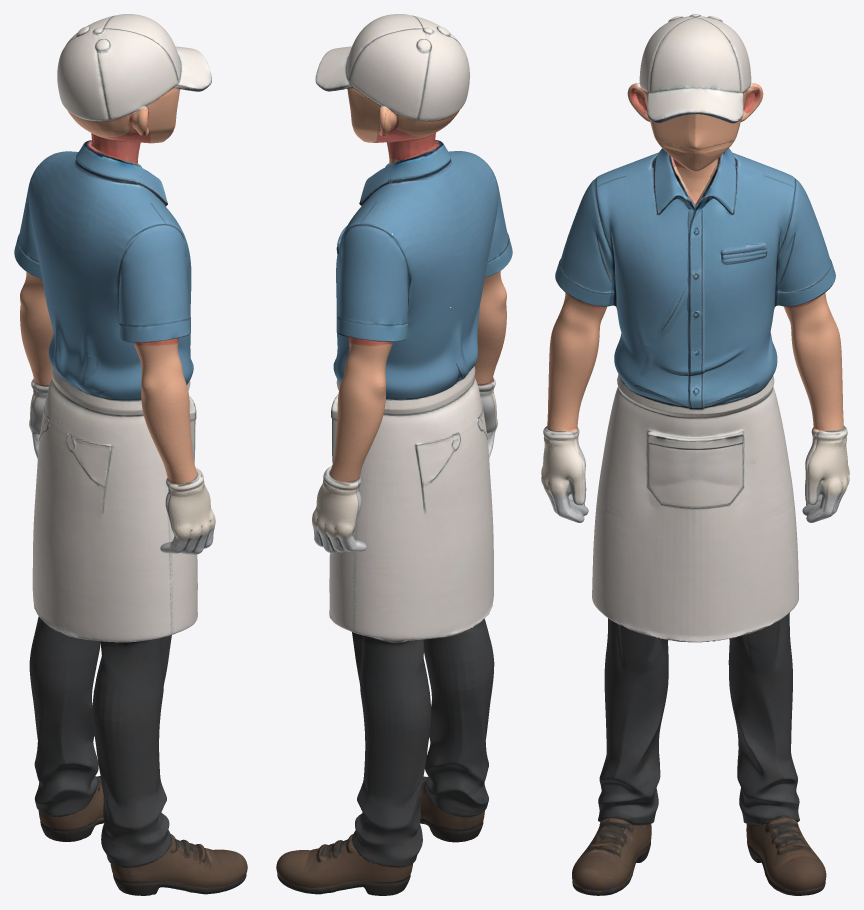
The model's file is chef+character+3d+model (1).glb.
3 renders of one model, left to right at view 1: azimuth 30°, elevation 25°; view 2: azimuth 150°, elevation 25°; view 3: azimuth 270°, elevation 25°, orthographic.
Parts seen in each view (by area): view 1: tripo_node_0f620663-a76f-4636-9a9e-1811780f5677; view 2: tripo_node_0f620663-a76f-4636-9a9e-1811780f5677; view 3: tripo_node_0f620663-a76f-4636-9a9e-1811780f5677.
Boxes of the visible parts, x1,y1,x2,y2 form: tripo_node_0f620663-a76f-4636-9a9e-1811780f5677: (14,14,247,895); tripo_node_0f620663-a76f-4636-9a9e-1811780f5677: (276,14,512,895); tripo_node_0f620663-a76f-4636-9a9e-1811780f5677: (541,14,849,895).
Bounding box in the file's own units: 0.1908 × 1 × 0.332.
1 material, 1 textured.
